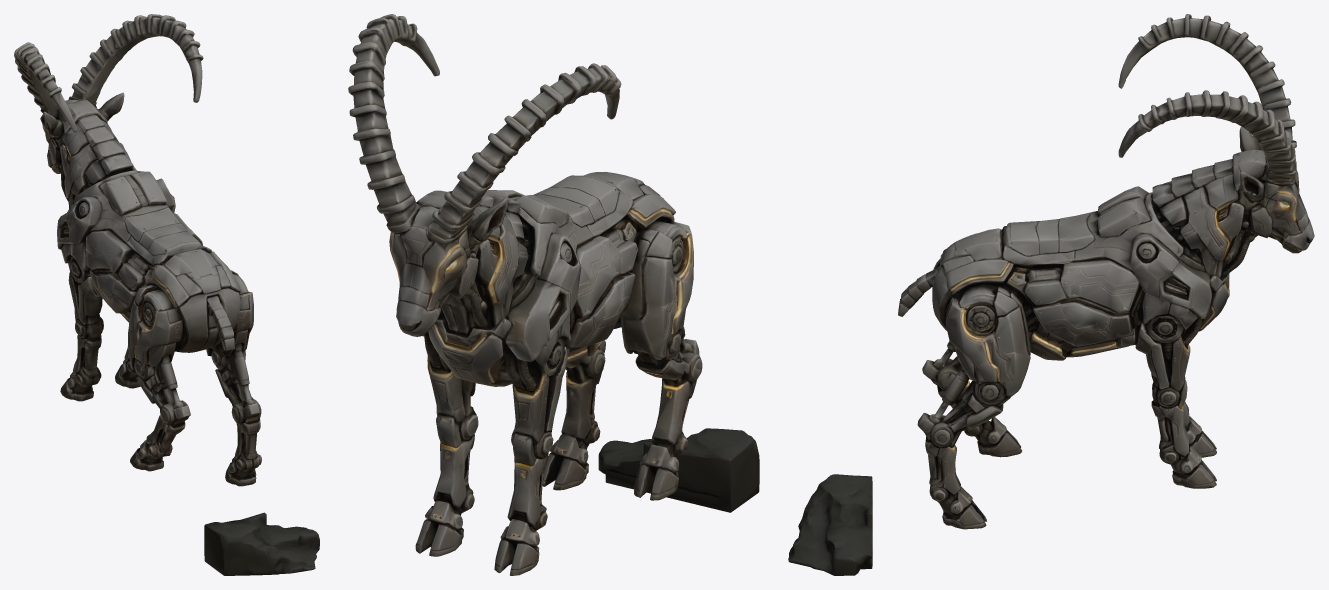
The model's file is ibex-cyber.glb.
3 renders of one model, left to right at view 1: azimuth 30°, elevation 25°; view 2: azimuth 150°, elevation 25°; view 3: azimuth 270°, elevation 25°, orthographic. The views are drawn at different scales.
Parts seen in each view (by area): view 1: tripo_node_a703842f-eb14-43b4-aad3-48ff0b1e681a; view 2: tripo_node_a703842f-eb14-43b4-aad3-48ff0b1e681a; view 3: tripo_node_a703842f-eb14-43b4-aad3-48ff0b1e681a.
Boxes of the visible parts, <box> form: tripo_node_a703842f-eb14-43b4-aad3-48ff0b1e681a: <box>14,14,319,575</box>; tripo_node_a703842f-eb14-43b4-aad3-48ff0b1e681a: <box>348,14,759,575</box>; tripo_node_a703842f-eb14-43b4-aad3-48ff0b1e681a: <box>788,14,1314,575</box>.
Size of the model in its own units: 0.4017 by 0.9998 by 0.9782.
Materials: 1 (1 with a texture image).
